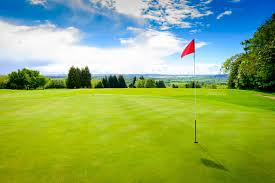Flag: (179, 39, 195, 60)
